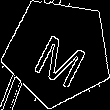M_NE: (26, 19, 90, 85)
